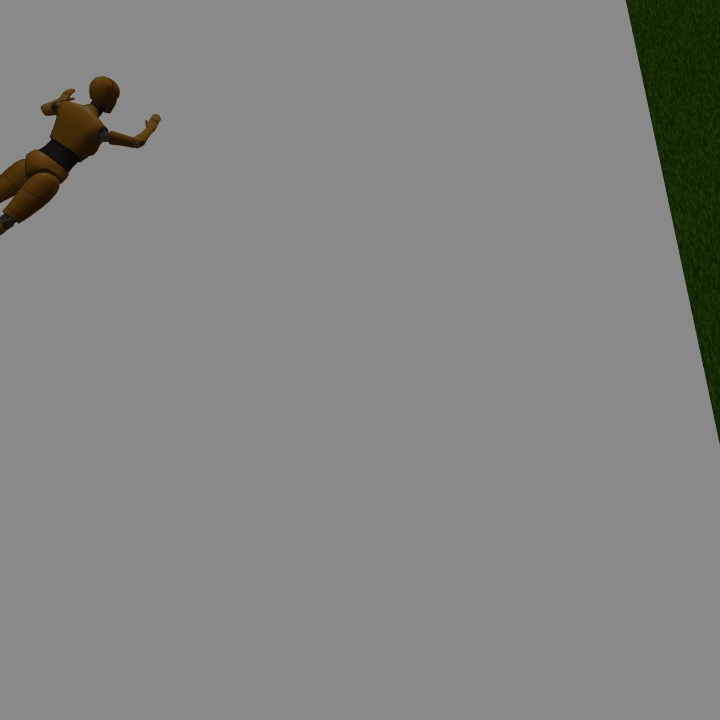victim: (1, 77, 161, 232)
